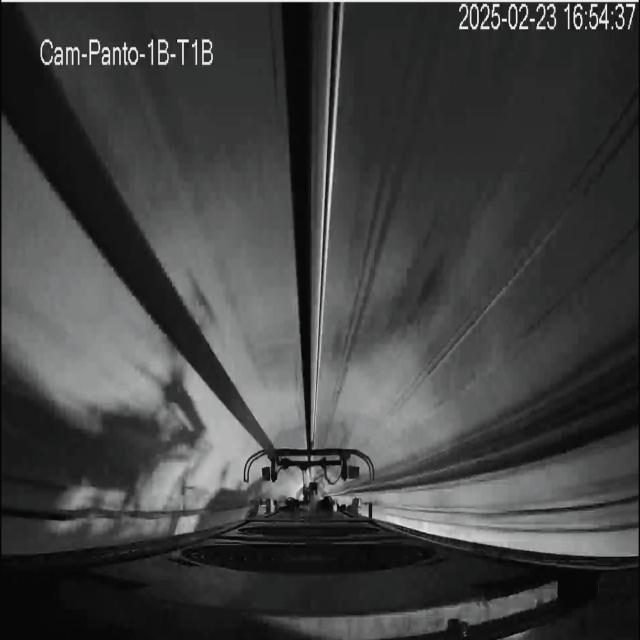Camera Stamp: (34, 28, 220, 72)
Date Stamp: (459, 3, 635, 33)
No - Spark: (247, 447, 377, 516)
